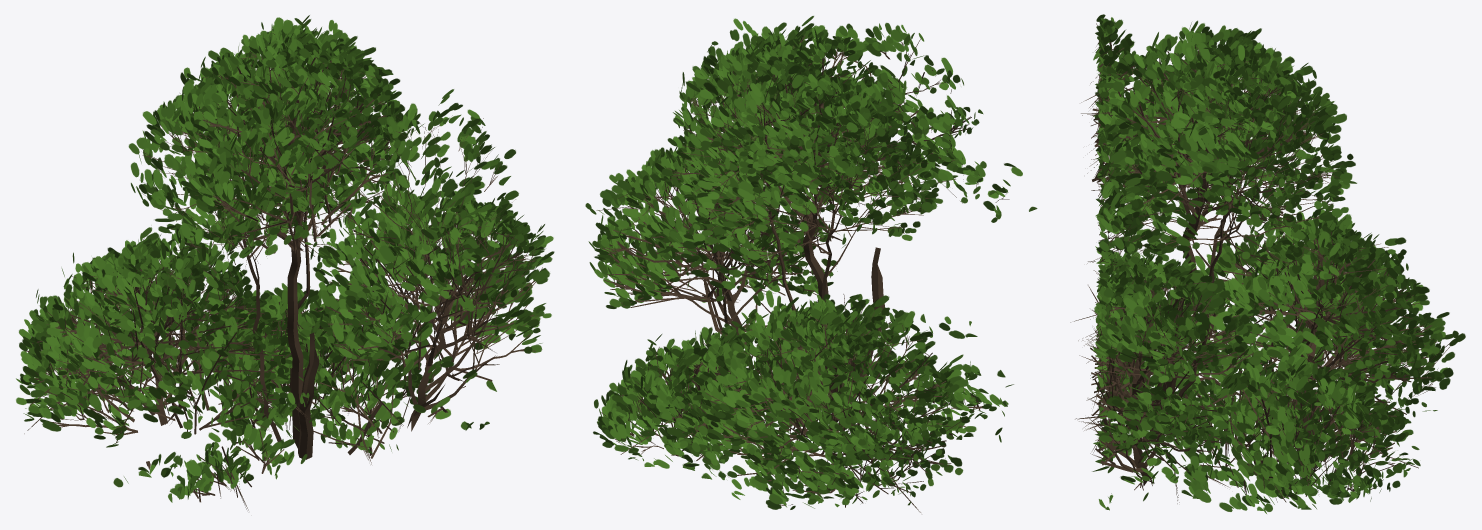
3 renders of one model, left to right at view 1: azimuth 30°, elevation 25°; view 2: azimuth 150°, elevation 25°; view 3: azimuth 270°, elevation 25°, orthographic. The views are drawn at different scales.
Visible parts, largest first — view 1: oak 01.001_trunk_Mat.001_0.317; view 2: oak 01.001_trunk_Mat.001_0.317; view 3: oak 01.001_trunk_Mat.001_0.317.
Part boxes in pixels (x1=…): oak 01.001_trunk_Mat.001_0.317: x1=16, y1=15, x2=554, y2=510; oak 01.001_trunk_Mat.001_0.317: x1=585, y1=16, x2=1037, y2=512; oak 01.001_trunk_Mat.001_0.317: x1=1070, y1=14, x2=1465, y2=513.
Size of the model in its own units: 4.92 by 4.27 by 3.6.
2 materials, 1 textured.
